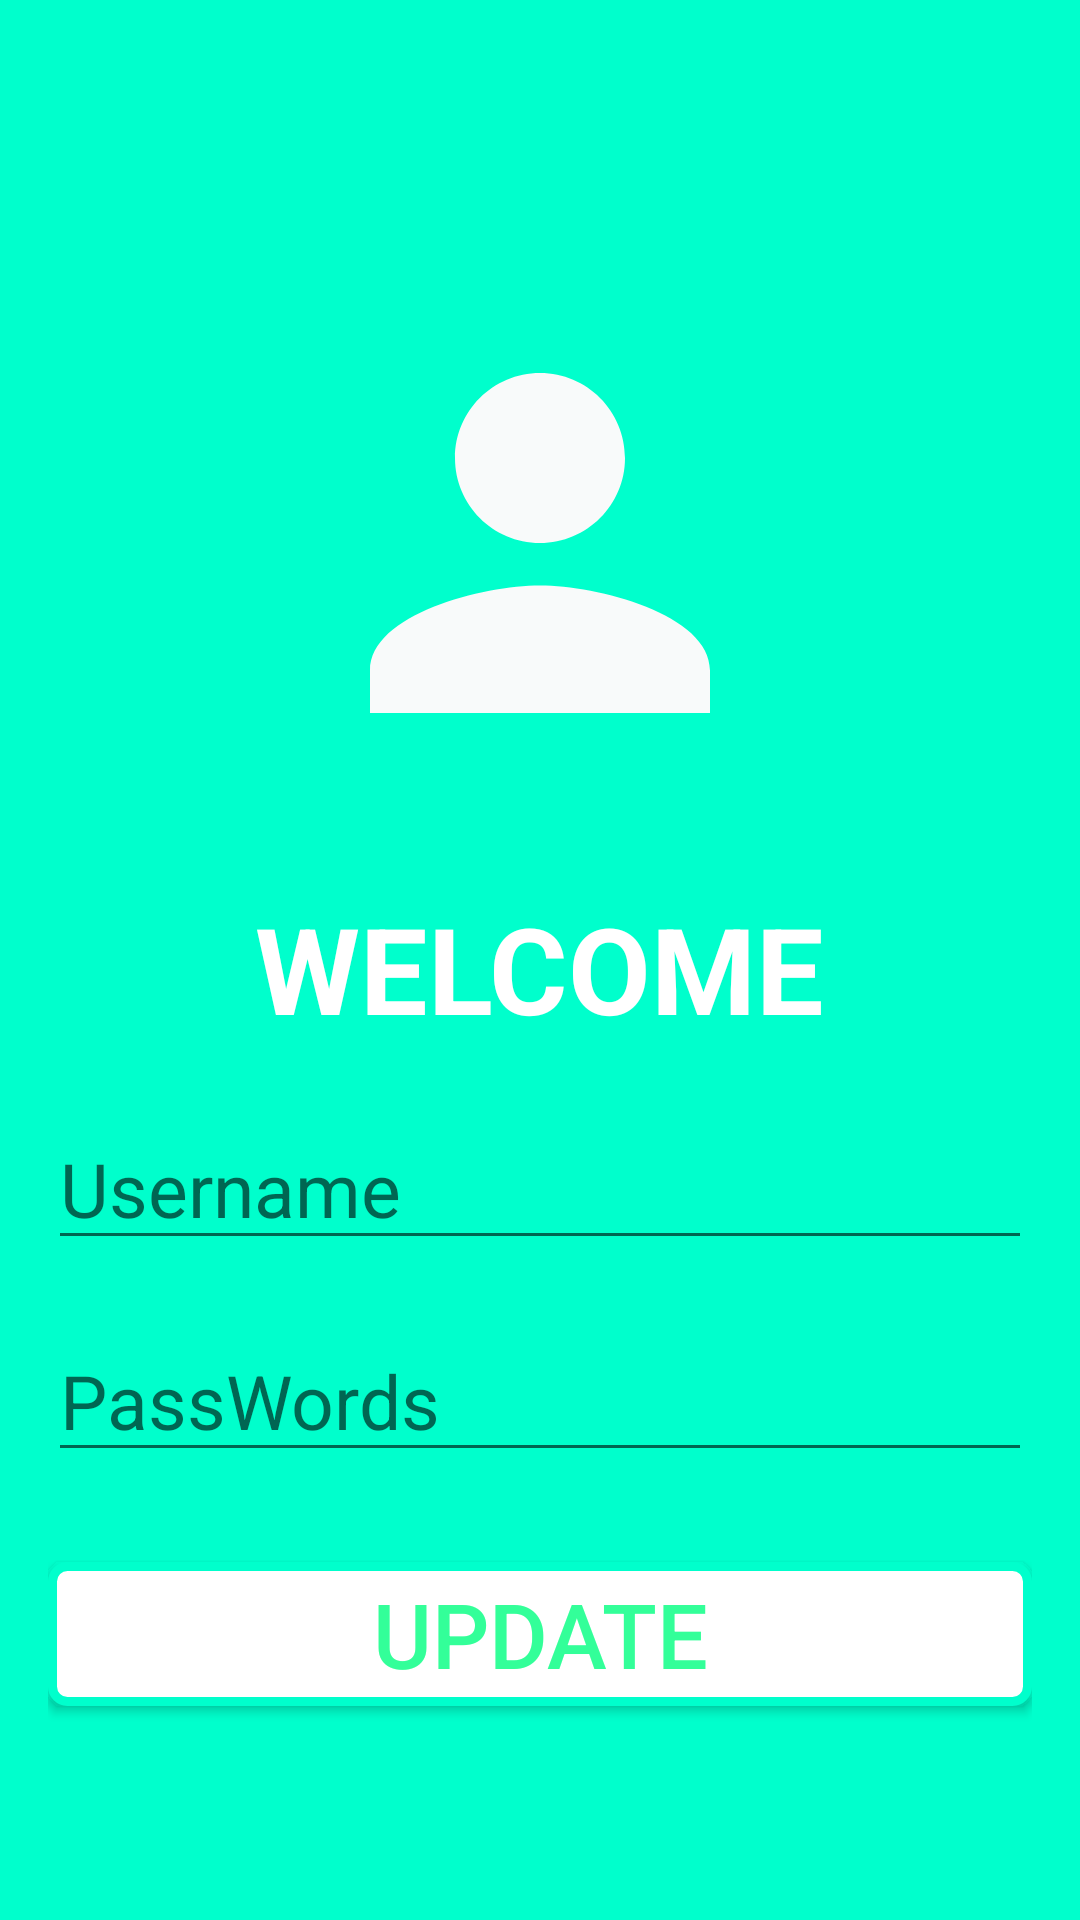

Icons on this 1080px×1920px Android screen, each with its box as [x1,y1,x2,y2]:
person: [370,373,710,713]
